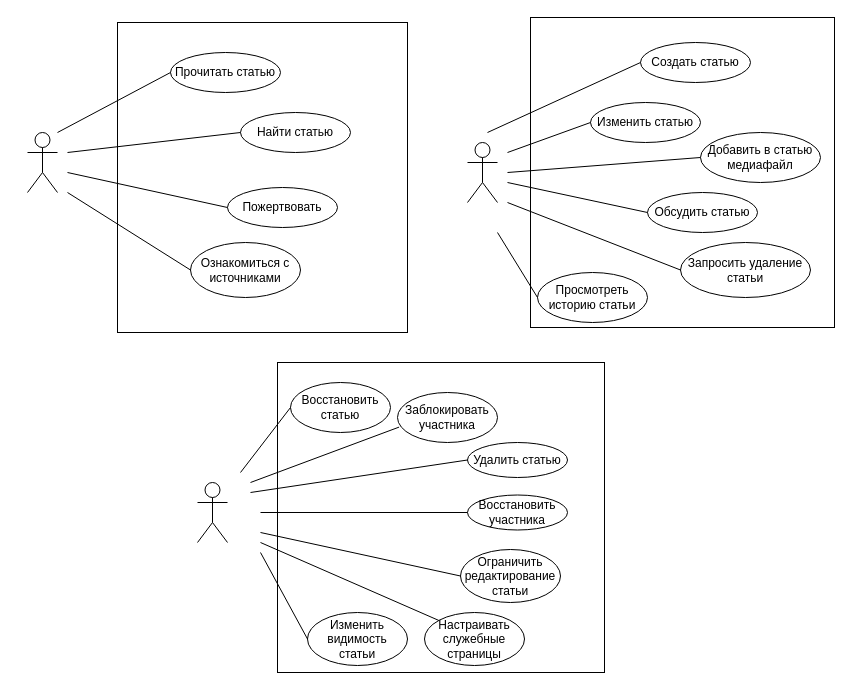
Some shapes in this 852 by 690 pixel diagram are drawn without their labels. The box of each missing label's shape, as (x1, y1, x2, y2) in pixels:
Администратор: (196, 482, 228, 542)
Редактор: (466, 142, 498, 202)
Читатель: (26, 132, 58, 192)
